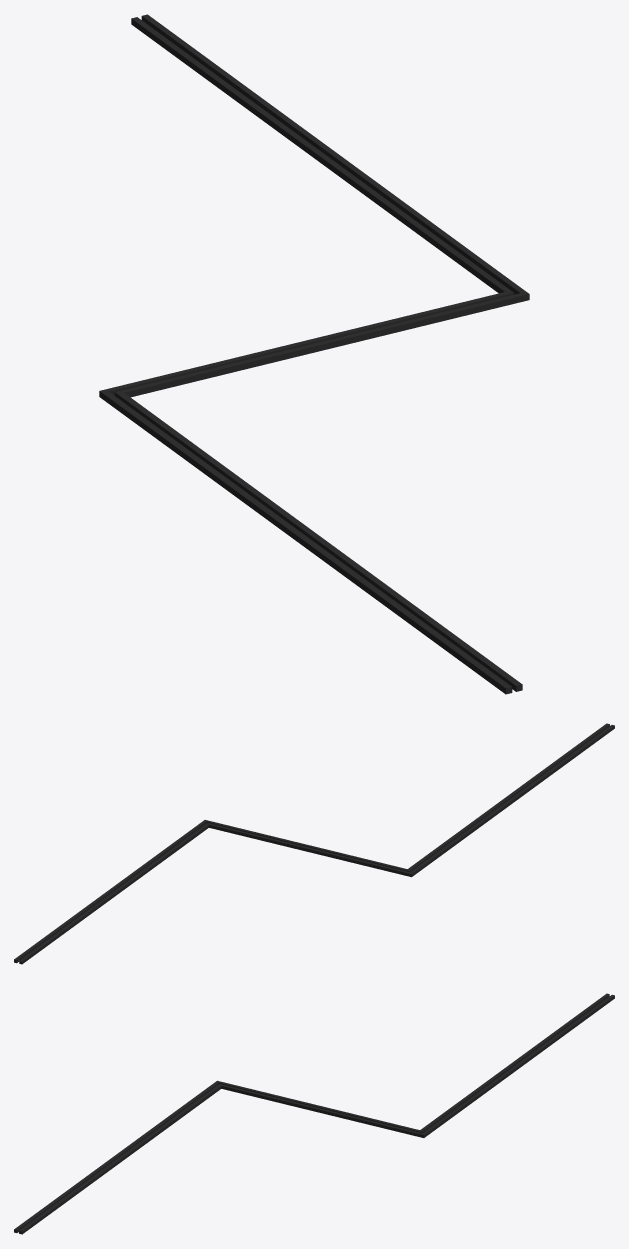
The model's file is WallDecor_08.fbx.
3 renders of one model, top to bottom at view 1: azimuth 30°, elevation 25°; view 2: azimuth 150°, elevation 25°; view 3: azimuth 330°, elevation 25°, orthographic. The views are drawn at different scales.
Visible parts, largest first — view 1: WallDecor_08; view 2: WallDecor_08; view 3: WallDecor_08.
Boxes of the visible parts, x1,y1,x2,y2 form: WallDecor_08: (99, 14, 529, 694); WallDecor_08: (14, 723, 614, 964); WallDecor_08: (14, 993, 614, 1234).
Size of the model in its own units: 156 by 2.16 by 500.
